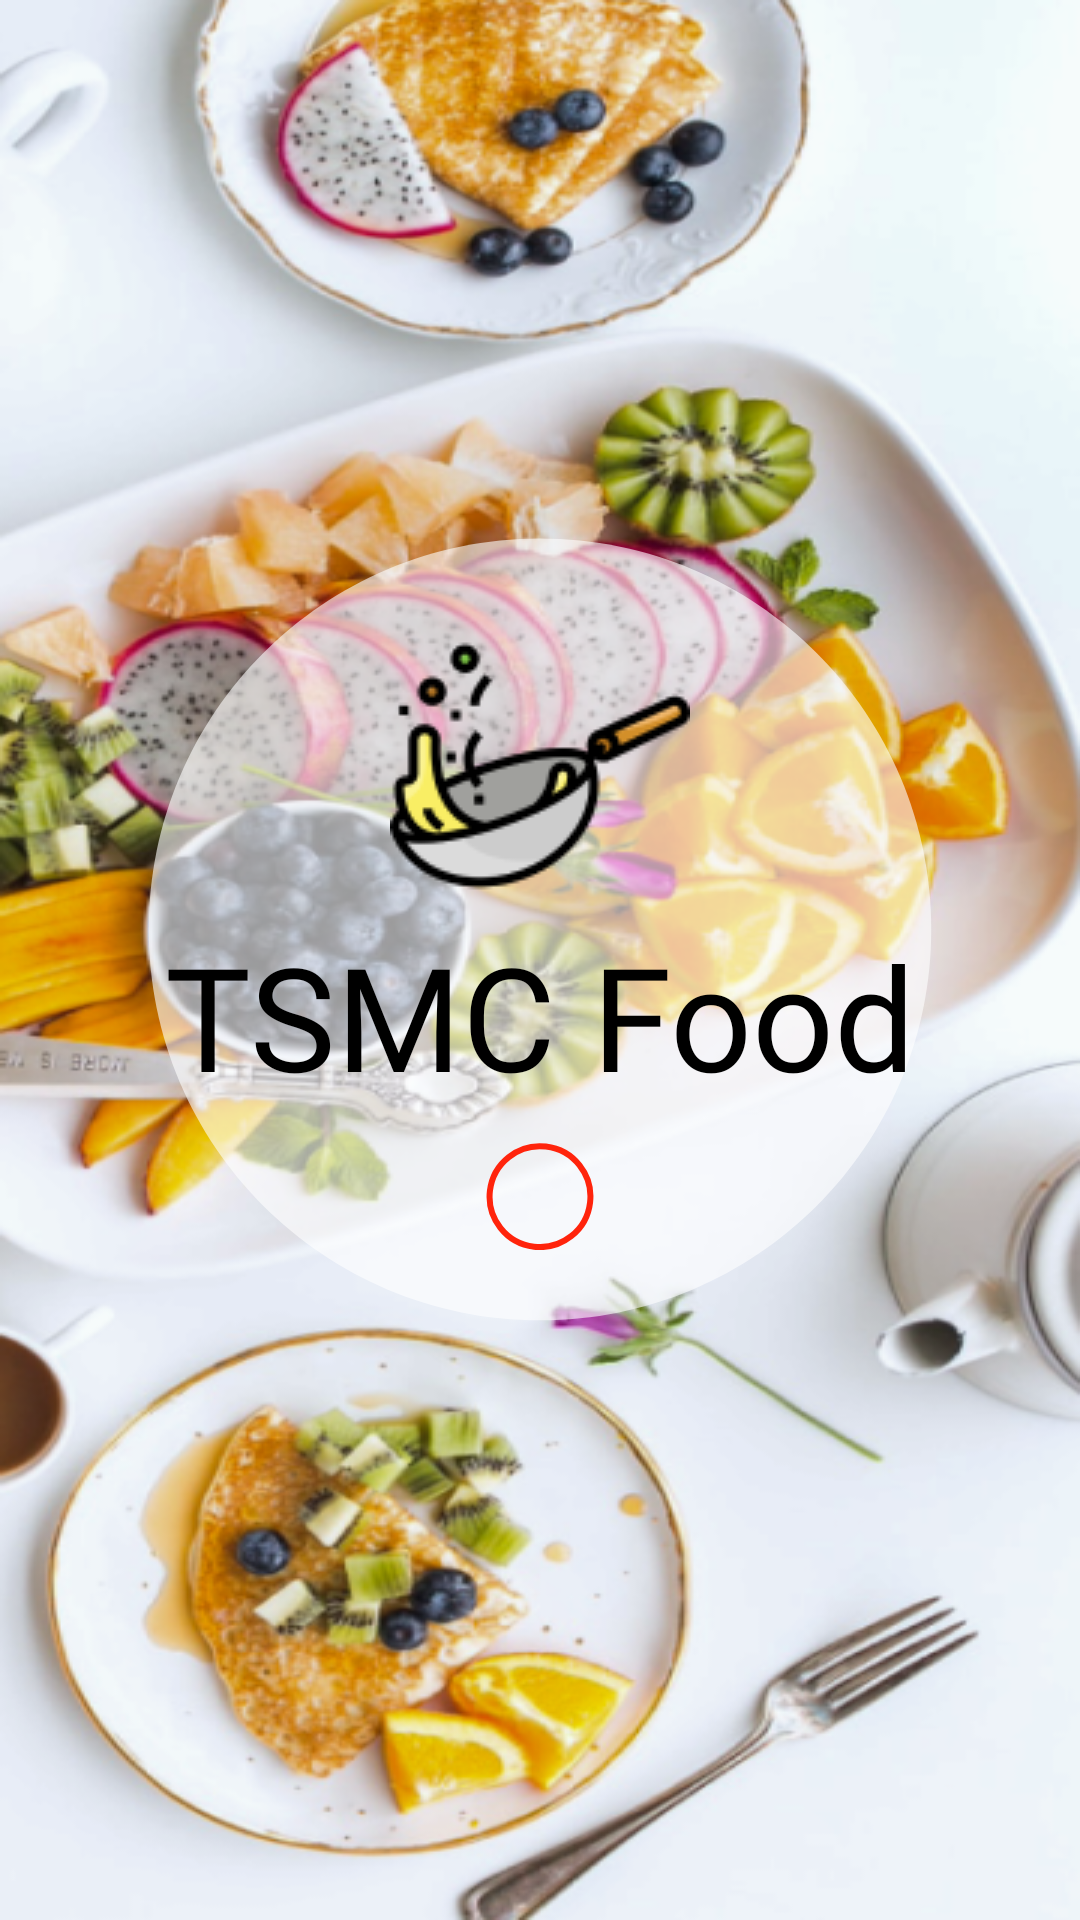

Icons on this 1080 x 1920 Android screen, each with the point to tap as (x,y):
cooking: (540,767)
